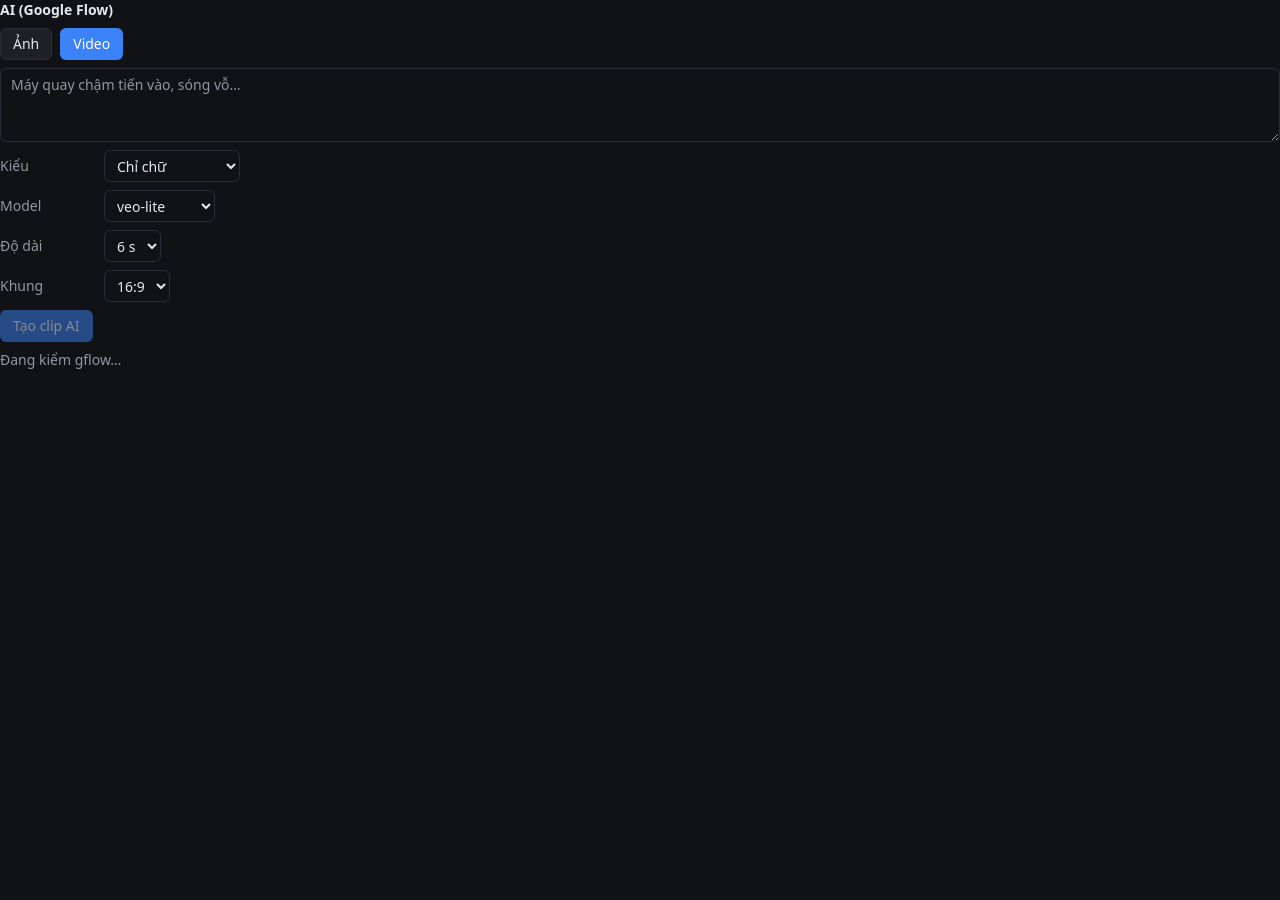
Test case: shot inspector AI clip section › Huỷ in the confirm sends nothing
In the text box named "Mô tả chuyển động": (640, 105) left=0, top=68, right=1279, bottom=142, type "sóng vỗ"
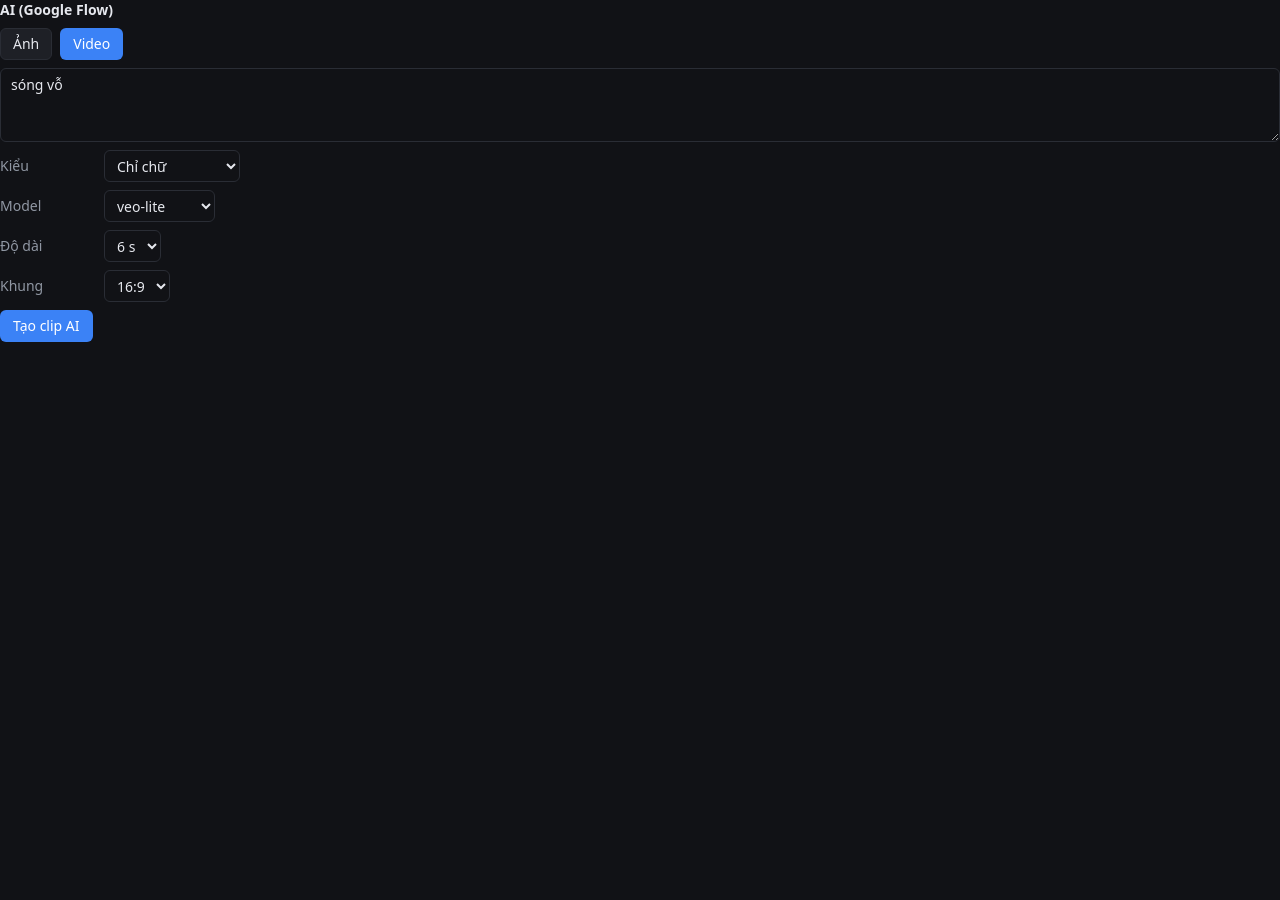
Now the button "Tạo clip AI" is enabled
Click the button "Tạo clip AI": (46, 326) left=0, top=310, right=92, bottom=342
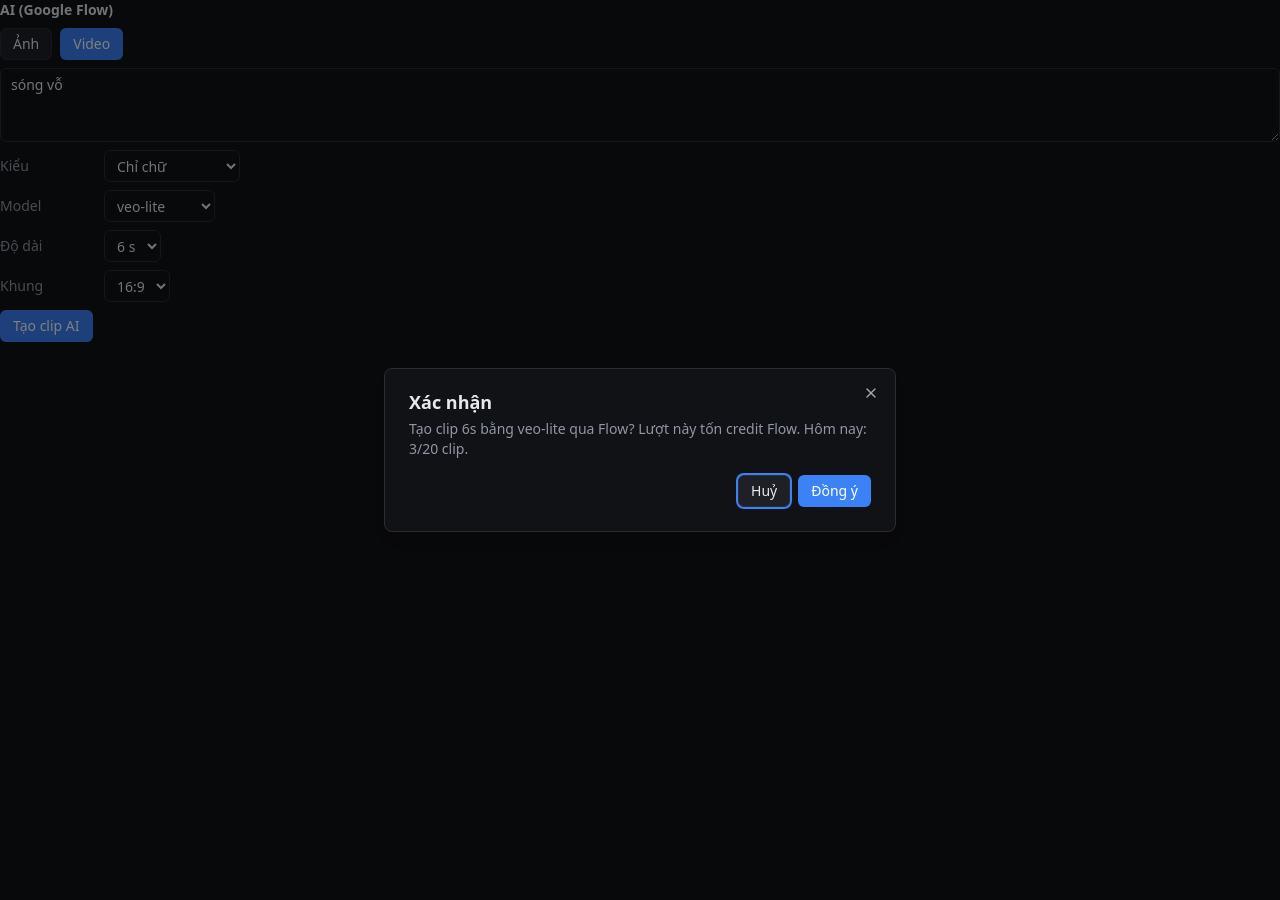
Now the dialog is shown, box left=384, top=368, right=896, bottom=532
Click the button "Huỷ": (764, 491) left=738, top=475, right=790, bottom=507
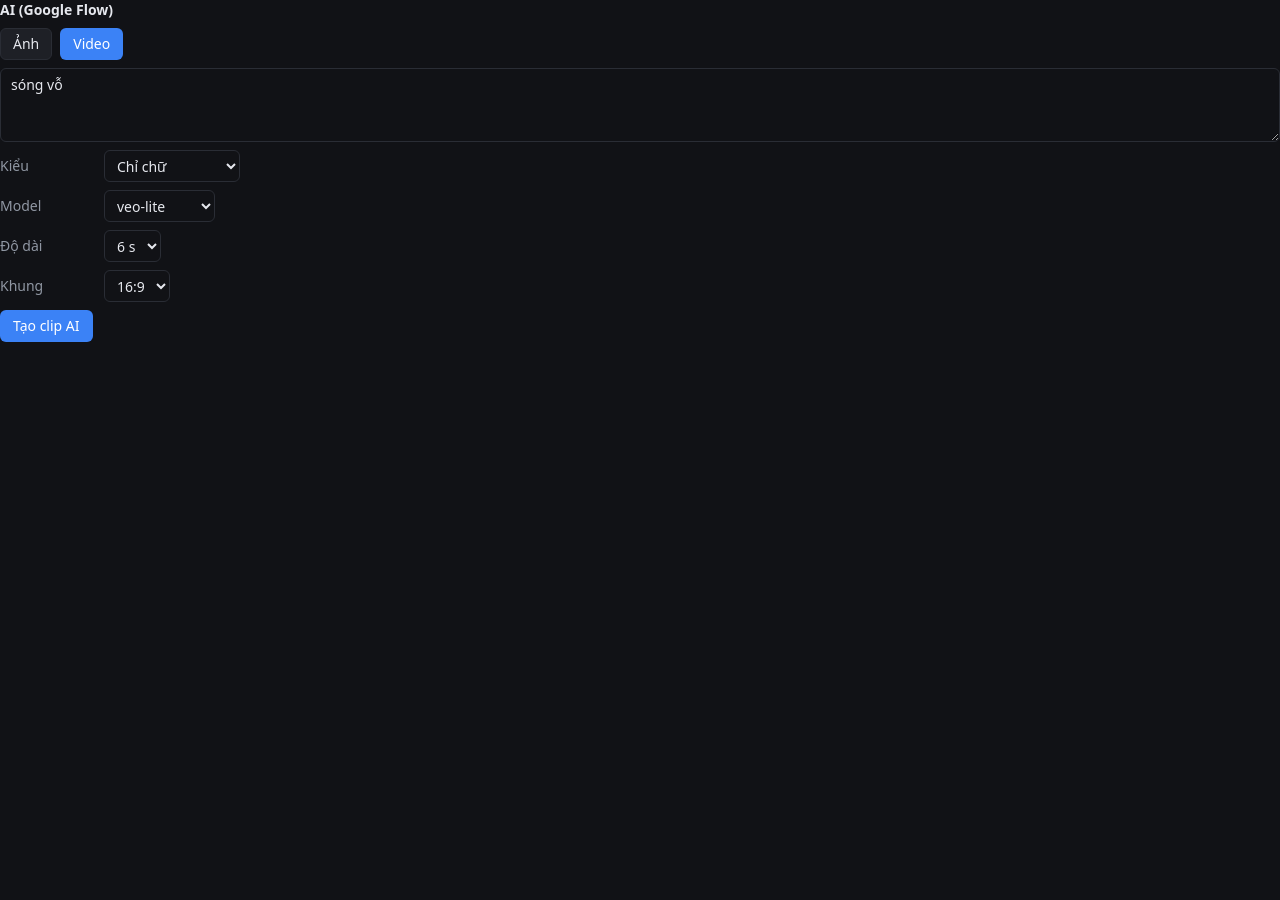
Now the dialog is gone
